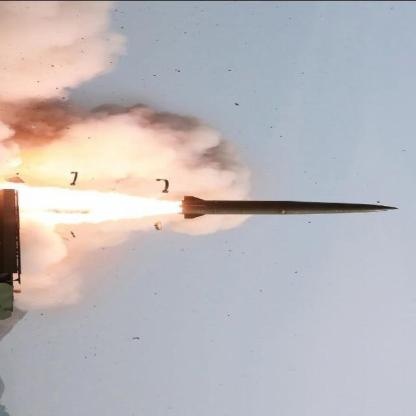MIL_TBM: (173, 191, 408, 219)
